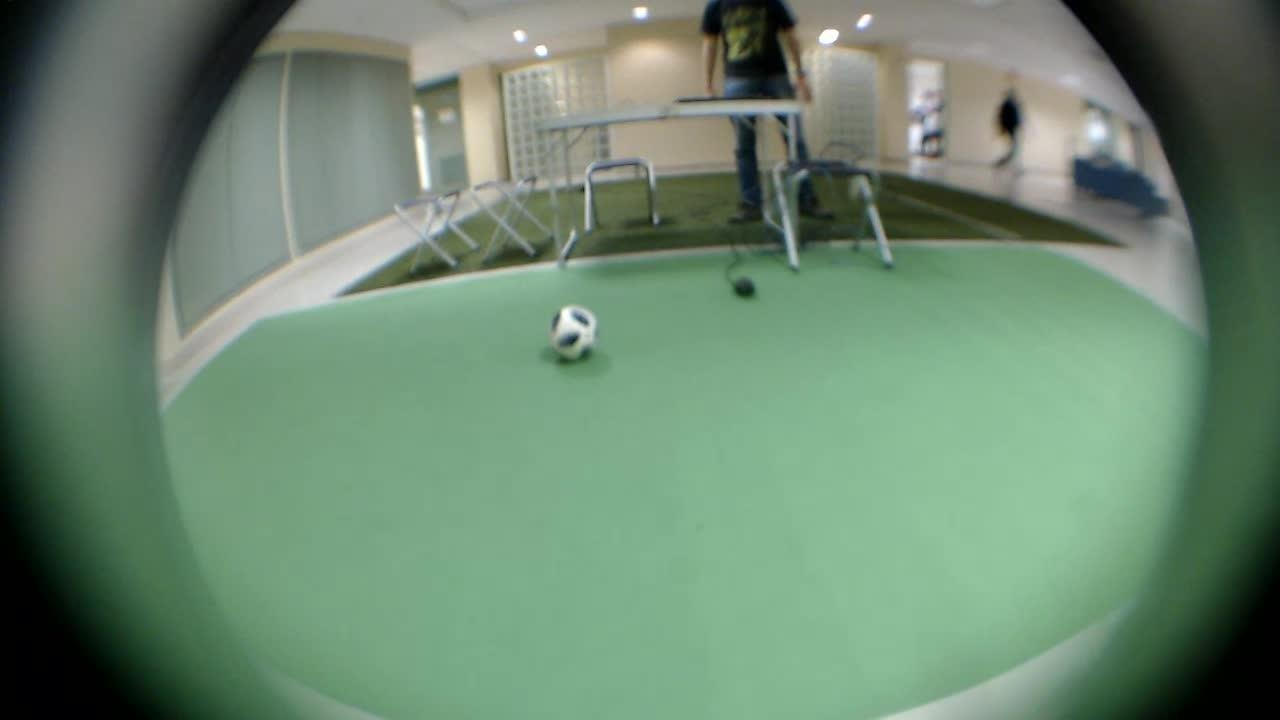ball: (539, 283, 618, 368)
